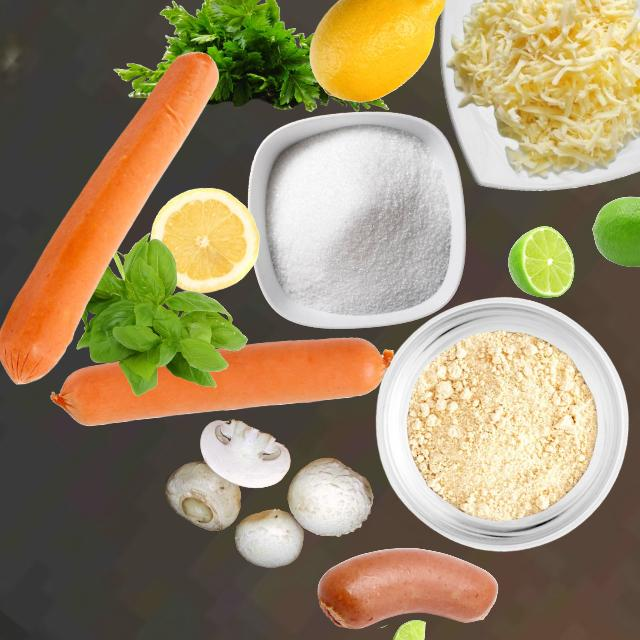Flour: (406, 329, 597, 521)
Sugar: (265, 124, 451, 315)
